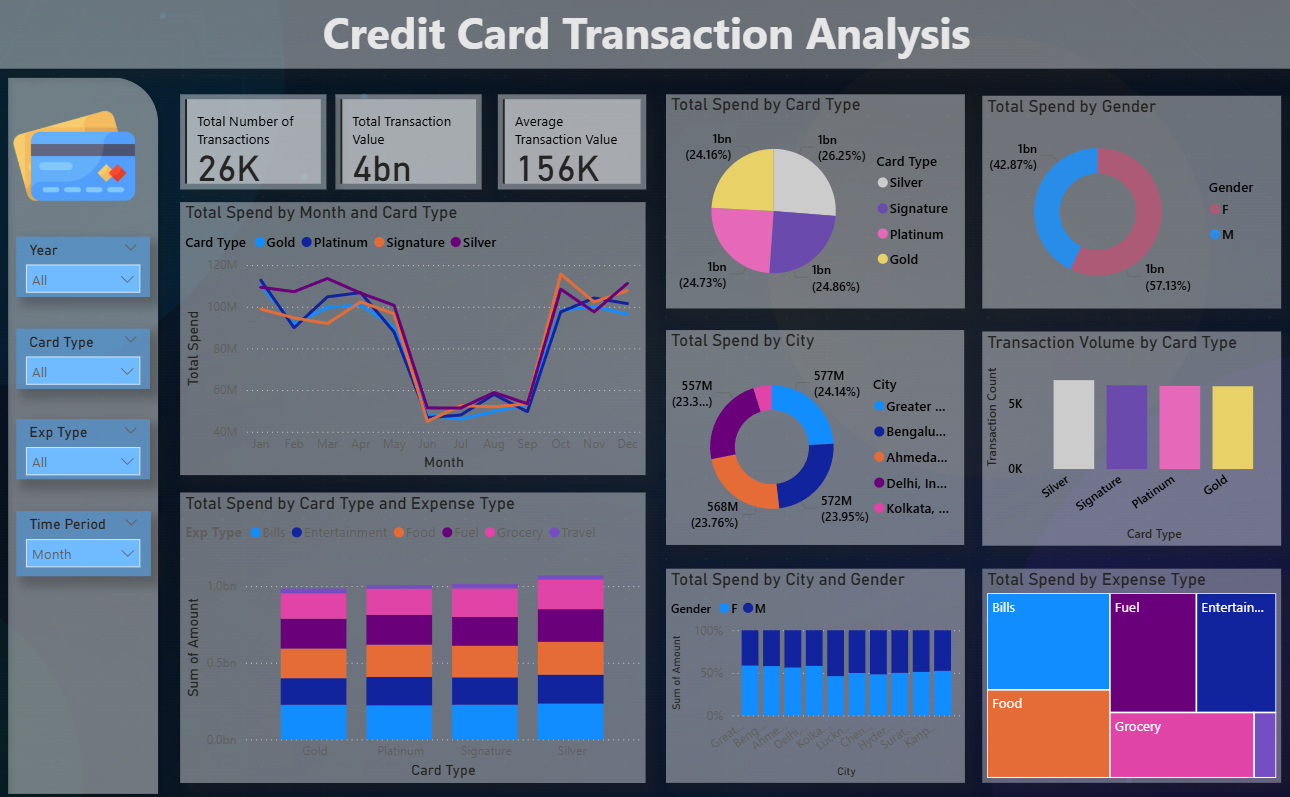

What the dashboard file says about the page in this screenshot:
{"tool":"powerbi","page":{"name":"Page 1","canvas":[1287,800],"ordinal":0},"visuals":[{"type":"group","id":"g1","title":"Group 1","box":[17.2,237.1,132.9,241.9],"z":0,"group":"g2"},{"type":"slicer","fields":{"Values":["Date.Year"]},"box":[17.2,237.1,132.9,60],"z":0,"group":"g1"},{"type":"donutChart","title":"Total Spend by City","fields":{"Category":["Credit card transactions.City"],"Y":["Sum(Credit card transactions.Amount)"]},"box":[663.3,330,296.7,213.3],"z":0},{"type":"cardVisual","fields":{"Data":["Credit card transactions.Average Transaction Value"]},"box":[495.7,95.7,147.1,94.3],"z":1000},{"type":"slicer","fields":{"Values":["Credit card transactions.Card Type"]},"box":[17.2,328.1,132.9,60],"z":1000,"group":"g1"},{"type":"slicer","fields":{"Values":["Parameter.Parameter"]},"box":[16.7,510,133.3,65],"z":1000,"group":"g2"},{"type":"cardVisual","fields":{"Data":["Credit card transactions.Total Transaction Value"]},"box":[334.3,95.7,145.7,94.3],"z":2000},{"type":"slicer","fields":{"Values":["Credit card transactions.Exp Type"]},"box":[17.2,419,132.9,60],"z":2000,"group":"g1"},{"type":"cardVisual","fields":{"Data":["Credit card transactions.Total Number of Transactions"]},"box":[180,95.7,145.7,94.3],"z":3000},{"type":"donutChart","title":"Total Spend by Gender","fields":{"Y":["Sum(Credit card transactions.Amount)"],"Category":["Credit card transactions.Gender"]},"box":[977.1,97.1,297.1,211.4],"z":4000},{"type":"treemap","title":"Total Spend by Expense Type","fields":{"Group":["Credit card transactions.Exp Type"],"Values":["Sum(Credit card transactions.Amount)"]},"box":[977.1,567.1,297.1,212.9],"z":5000},{"type":"pieChart","title":"Total Spend by Card Type","fields":{"Category":["Credit card transactions.Card Type"],"Y":["Sum(Credit card transactions.Amount)"]},"box":[662.9,95.7,297.1,212.9],"z":6000},{"type":"columnChart","title":"Transaction Volume by Card Type","fields":{"Category":["Credit card transactions.Card Type"],"Y":["Credit card transactions.Transaction Count"]},"box":[977.1,330.7,297.1,212.9],"z":7000},{"type":"hundredPercentStackedColumnChart","title":"Total Spend by City and Gender","fields":{"Category":["Credit card transactions.City"],"Y":["Sum(Credit card transactions.Amount)"],"Series":["Credit card transactions.Gender"]},"box":[662.9,567.1,297.1,212.9],"z":8000},{"type":"textbox","box":[0,0,1287.1,70],"z":9000},{"type":"shape","box":[0,70,167.1,730],"z":10000,"group":"g3"},{"type":"lineChart","fields":{"Category":["Date.Month"],"Y":["Credit card transactions.Total Spend"],"Series":["Credit card transactions.Card Type"]},"box":[180,202.9,462.9,271.4],"z":11000},{"type":"columnChart","title":"Total Spend by Card Type and Expense Type","fields":{"Category":["Credit card transactions.Card Type"],"Series":["Credit card transactions.Exp Type"],"Y":["Sum(Credit card transactions.Amount)"]},"box":[180,491.4,462.9,288.6],"z":12000},{"type":"image","box":[0,82.9,150,148.6],"z":13000,"group":"g3"},{"type":"group","id":"g2","title":"Group 2","box":[16.7,237.1,133.3,337.9],"z":14002,"group":"g3"},{"type":"group","id":"g3","title":"Group 3","box":[0,70,167.1,730],"z":14003}]}

Visuals, with their boxes in screenshot pixels (x1, y1, x2, y2), scaled from the page's 1287x800 canvas onto the 1290x797 screenshot:
"Group 1" group: 17,236,150,477
slicer - Date.Year: 17,236,150,296
"Total Spend by City" donutChart: 665,329,962,541
cardVisual - Credit card transactions.Average Transaction Value: 497,95,644,189
slicer - Credit card transactions.Card Type: 17,327,150,387
slicer - Parameter.Parameter: 17,508,150,573
cardVisual - Credit card transactions.Total Transaction Value: 335,95,481,189
slicer - Credit card transactions.Exp Type: 17,417,150,477
cardVisual - Credit card transactions.Total Number of Transactions: 180,95,326,189
"Total Spend by Gender" donutChart: 979,97,1277,307
"Total Spend by Expense Type" treemap: 979,565,1277,777
"Total Spend by Card Type" pieChart: 664,95,962,307
"Transaction Volume by Card Type" columnChart: 979,329,1277,542
"Total Spend by City and Gender" hundredPercentStackedColumnChart: 664,565,962,777
textbox: 0,0,1289,70
shape: 0,70,167,796
lineChart - Date.Month x Credit card transactions.Total Spend: 180,202,644,473
"Total Spend by Card Type and Expense Type" columnChart: 180,490,644,777
image: 0,83,150,231
"Group 2" group: 17,236,150,573
"Group 3" group: 0,70,167,796
